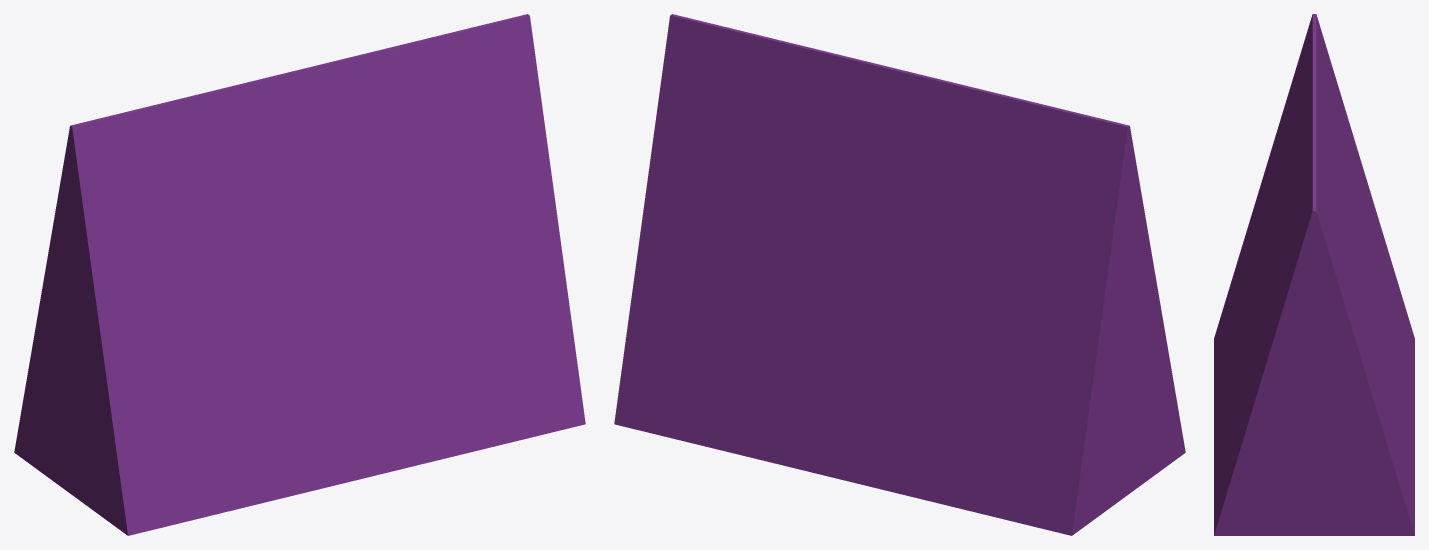
The model's file is MountChocolate.fbx.
3 views of the same model, side by side, from view 1: azimuth 30°, elevation 25°; view 2: azimuth 150°, elevation 25°; view 3: azimuth 270°, elevation 25° (orthographic). The views are drawn at different scales.
Parts seen in each view (by area): view 1: MountChocolate; view 2: MountChocolate; view 3: MountChocolate.
Boxes of the visible parts, box(x1,y1,x2,y2) form: MountChocolate: box(14, 14, 585, 535); MountChocolate: box(614, 14, 1185, 535); MountChocolate: box(1214, 14, 1414, 535).
Size of the model in its own units: 7.91 by 6.08 by 3.41.
